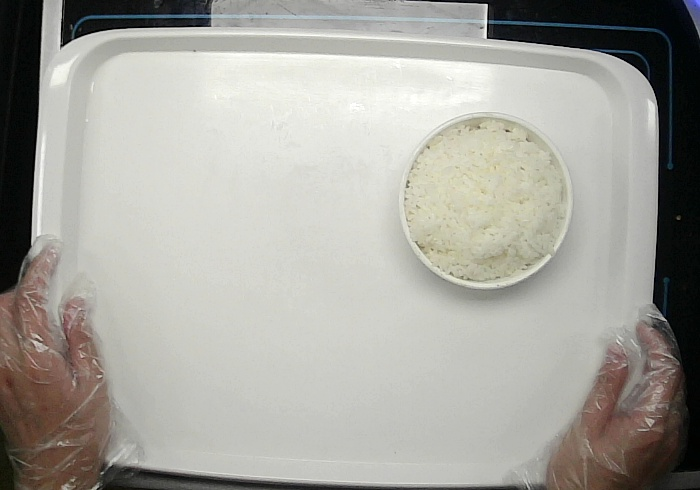HZYJPL-Fan_Wan: (397, 108, 575, 291)
